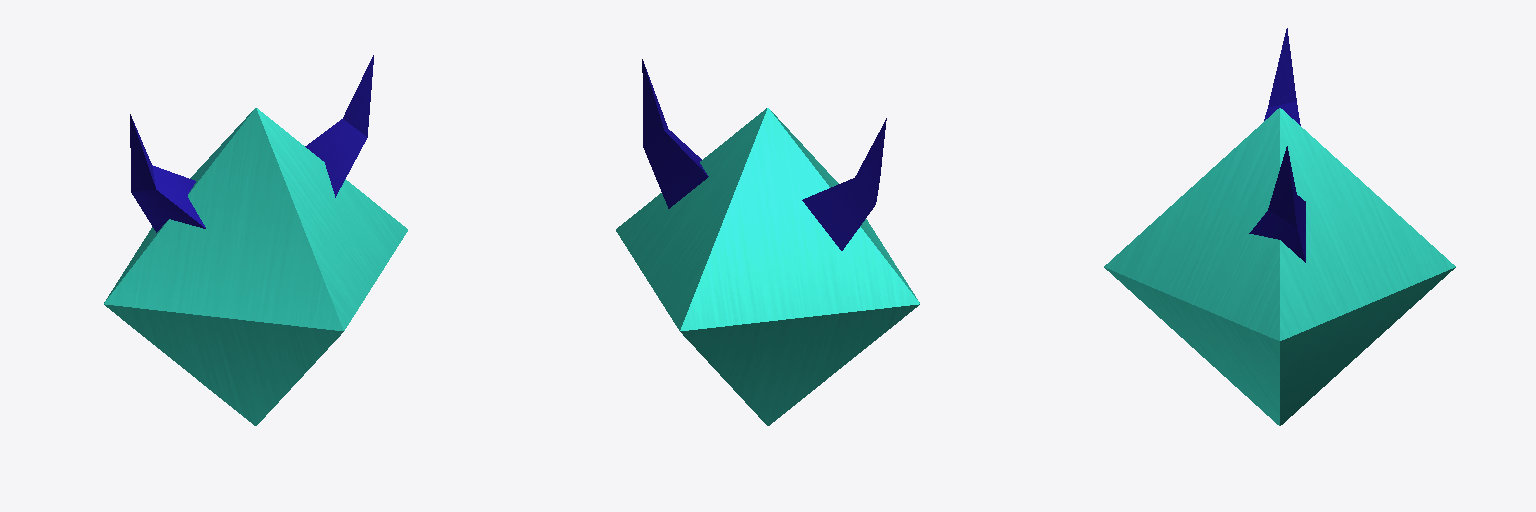
3 views of the same model, side by side, from view 1: azimuth 30°, elevation 25°; view 2: azimuth 150°, elevation 25°; view 3: azimuth 270°, elevation 25° (orthographic).
Visible parts, largest first — view 1: Solid, Solid.002, Solid.001; view 2: Solid, Solid.001, Solid.002; view 3: Solid, Solid.001, Solid.002.
Part boxes in pixels (bbox=[...]): Solid: bbox=[104, 108, 407, 425]; Solid.002: bbox=[130, 114, 205, 232]; Solid.001: bbox=[305, 55, 373, 197]; Solid: bbox=[616, 108, 919, 425]; Solid.001: bbox=[642, 59, 708, 208]; Solid.002: bbox=[802, 118, 886, 250]; Solid: bbox=[1104, 108, 1455, 425]; Solid.001: bbox=[1249, 146, 1305, 262]; Solid.002: bbox=[1264, 28, 1300, 125].
Size of the model in its own units: 2 by 2.14 by 2.
Materials: 3 (1 with a texture image).